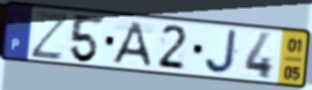2: (154, 24, 192, 72)
4: (243, 31, 276, 81)
5: (67, 12, 107, 64)
A: (110, 20, 154, 69)
J: (202, 28, 240, 76)
Z: (29, 9, 72, 62)
